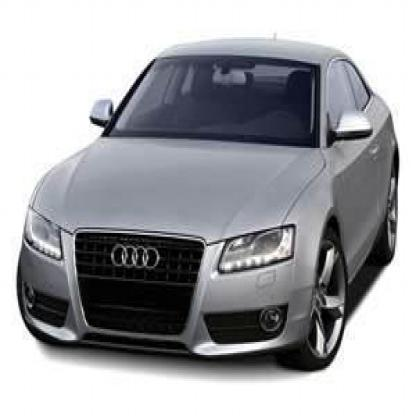Vehicle: (3, 13, 414, 414)
